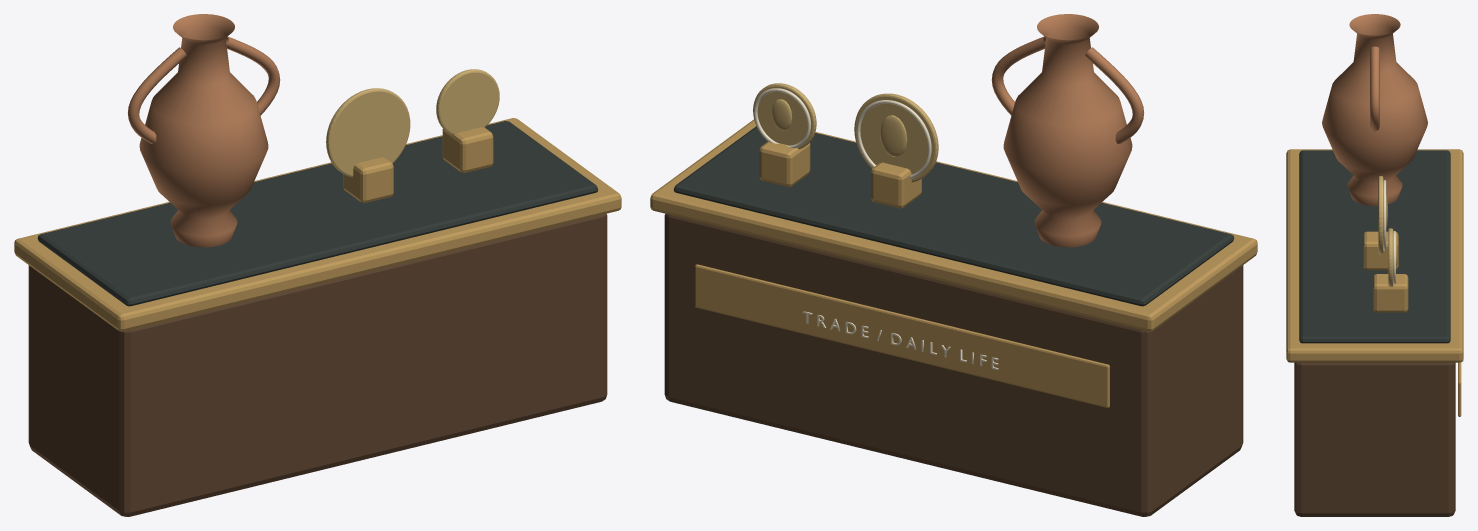
File: RomanArtifactCase.glb
3 renders of one model, left to right at view 1: azimuth 30°, elevation 25°; view 2: azimuth 150°, elevation 25°; view 3: azimuth 270°, elevation 25°, orthographic. The views are drawn at different scales.
Visible parts, largest first — view 1: Artifact cabinet, Recessed artifact tray, Interpretive amphora, Bronze display edge, Replica coin, Replica coin.001, Coin display stand.001, Coin display stand, Amphora loop handle, Amphora loop handle.001; view 2: Artifact cabinet, Recessed artifact tray, Interpretive amphora, Roman case label, Bronze display edge, Replica coin, Replica coin.001, Coin display stand.001, Coin display stand, Amphora loop handle, Amphora loop handle.001, Schematic coin portrait (+3 smaller); view 3: Artifact cabinet, Recessed artifact tray, Interpretive amphora, Bronze display edge, Coin display stand.001, Coin display stand, Amphora loop handle.001, Replica coin, Replica coin.001, Coin relief rim, Roman case label.
Part boxes in pixels (box(x1,y1,x2,y2)): Artifact cabinet: box(28, 213, 607, 516); Recessed artifact tray: box(37, 121, 598, 306); Interpretive amphora: box(139, 14, 268, 247); Bronze display edge: box(14, 118, 621, 331); Replica coin: box(326, 88, 410, 177); Replica coin.001: box(436, 69, 499, 135); Coin display stand.001: box(442, 127, 493, 172); Coin display stand: box(343, 157, 393, 202); Amphora loop handle: box(128, 47, 186, 143); Amphora loop handle.001: box(226, 36, 280, 115); Artifact cabinet: box(664, 213, 1243, 516); Recessed artifact tray: box(673, 126, 1234, 306); Interpretive amphora: box(1003, 14, 1132, 247); Roman case label: box(695, 264, 1109, 407); Bronze display edge: box(650, 119, 1257, 331); Replica coin: box(854, 93, 938, 182); Replica coin.001: box(753, 83, 816, 149); Coin display stand.001: box(759, 141, 810, 186); Coin display stand: box(871, 162, 921, 208); Amphora loop handle: box(1085, 47, 1143, 143); Amphora loop handle.001: box(991, 36, 1045, 115); Schematic coin portrait: box(880, 115, 907, 156); Artifact cabinet: box(1294, 362, 1455, 516); Recessed artifact tray: box(1299, 150, 1450, 343); Interpretive amphora: box(1322, 14, 1427, 205); Bronze display edge: box(1286, 149, 1463, 362); Coin display stand.001: box(1373, 274, 1408, 312); Coin display stand: box(1363, 231, 1398, 270); Amphora loop handle.001: box(1370, 46, 1379, 131); Replica coin: box(1378, 176, 1383, 254); Replica coin.001: box(1388, 228, 1393, 286); Coin relief rim: box(1383, 180, 1386, 250); Roman case label: box(1458, 362, 1461, 416).
Bounding box in the file's own units: 2.43 × 1.97 × 0.9.
